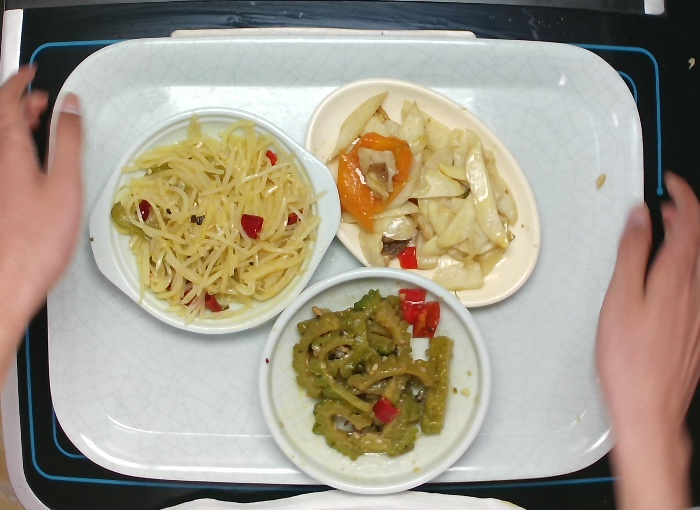JYsf-Shuang_Er_Pan: (85, 99, 344, 339)
JYsf-Tuo_Yuan_Wan: (296, 69, 545, 313)
JYsf-Xiao_Yuan_Pan: (258, 254, 496, 497)
